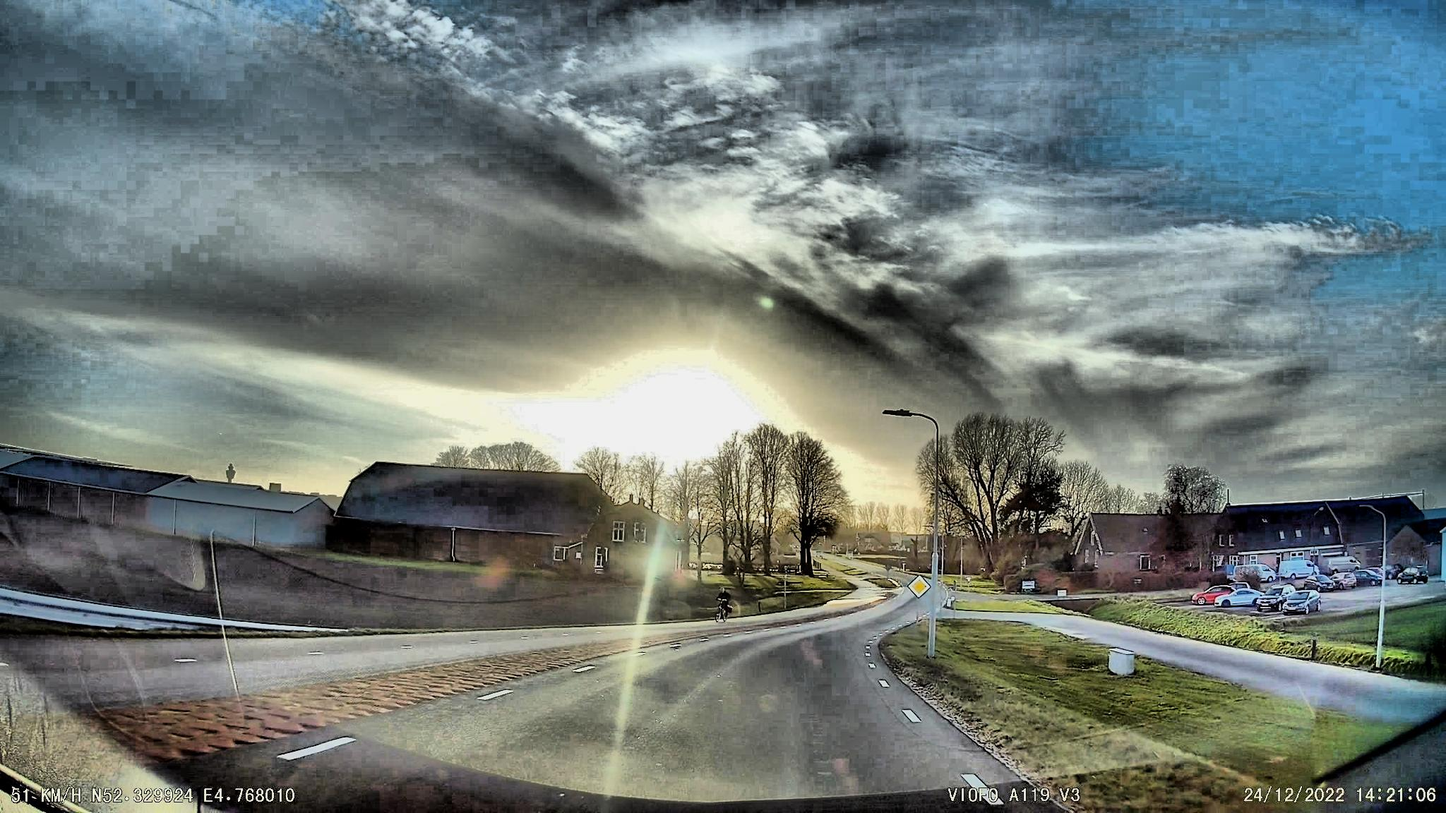Roads: (137, 605, 1074, 813)
